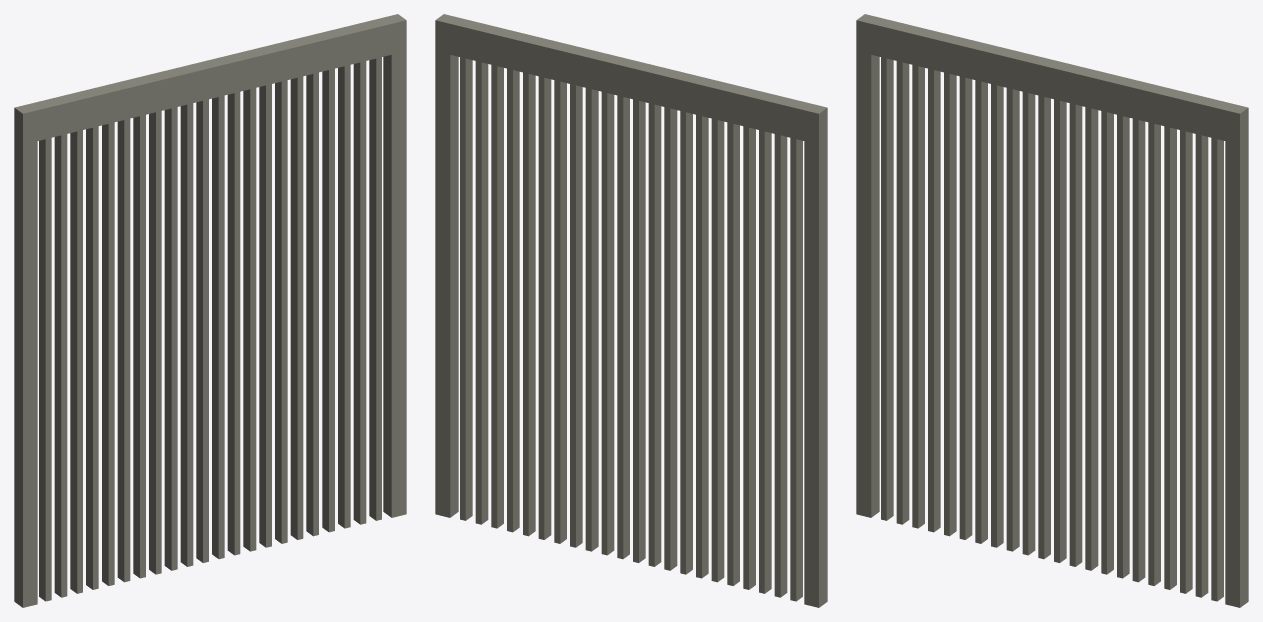
The model's file is 2400-1950_soutiencollar.fbx.
The picture shows the model from 3 angles, left to right: view 1: azimuth 30°, elevation 25°; view 2: azimuth 150°, elevation 25°; view 3: azimuth 330°, elevation 25°; orthographic projection.
Visible parts, largest first — view 1: 2400-1950_staincolor; view 2: 2400-1950_staincolor; view 3: 2400-1950_staincolor.
Part boxes in pixels (x1,y1,x2,y2): 2400-1950_staincolor: (14,14,406,607); 2400-1950_staincolor: (435,14,827,607); 2400-1950_staincolor: (856,14,1248,607).
Bounding box in the file's own units: 195 × 240 × 7.5.
1 material, 1 textured.
